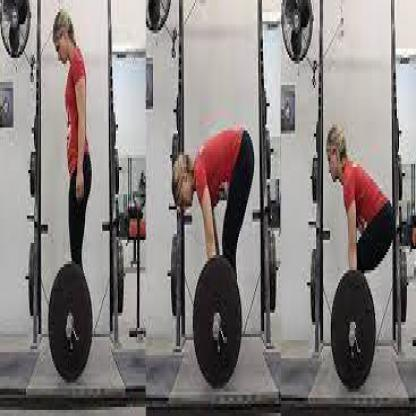barbell: (191, 255, 243, 391), (46, 259, 95, 384), (330, 270, 377, 391)
